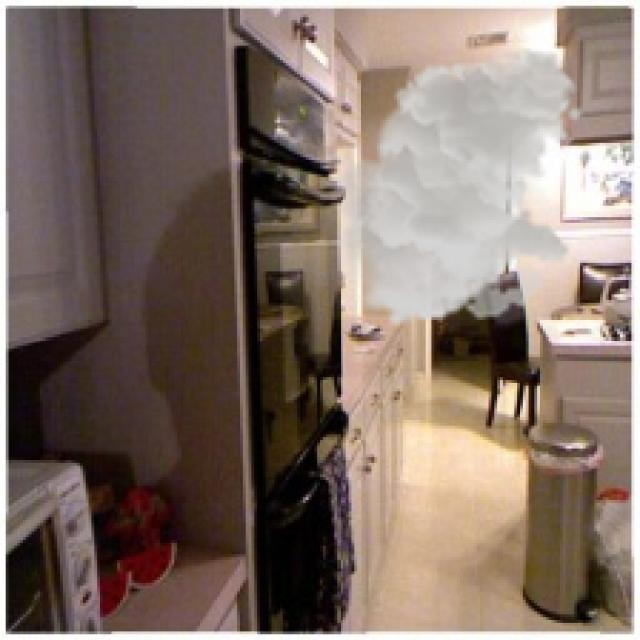Smoke: (326, 49, 586, 328)
